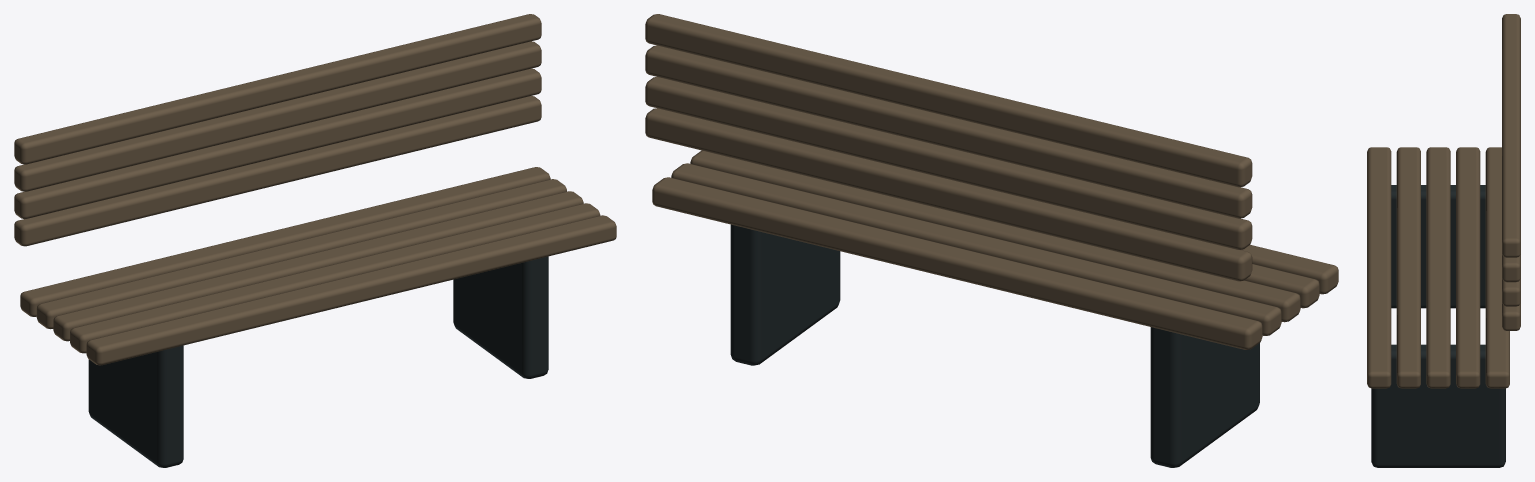
The model's file is bench-b3fce609b684.glb.
The picture shows the model from 3 angles, left to right: view 1: azimuth 30°, elevation 25°; view 2: azimuth 150°, elevation 25°; view 3: azimuth 270°, elevation 25°; orthographic projection. The views are drawn at different scales.
Visible parts, largest first — view 1: Bark, Charcoal; view 2: Bark, Charcoal; view 3: Bark, Charcoal.
Part boxes in pixels (x1,y1,x2,y2): Bark: (14, 14, 616, 365); Charcoal: (88, 256, 548, 467); Bark: (645, 14, 1338, 349); Charcoal: (730, 224, 1259, 467); Bark: (1367, 14, 1520, 388); Charcoal: (1371, 185, 1505, 467).
Bounding box in the file's own units: 2 × 1.06 × 0.57.
